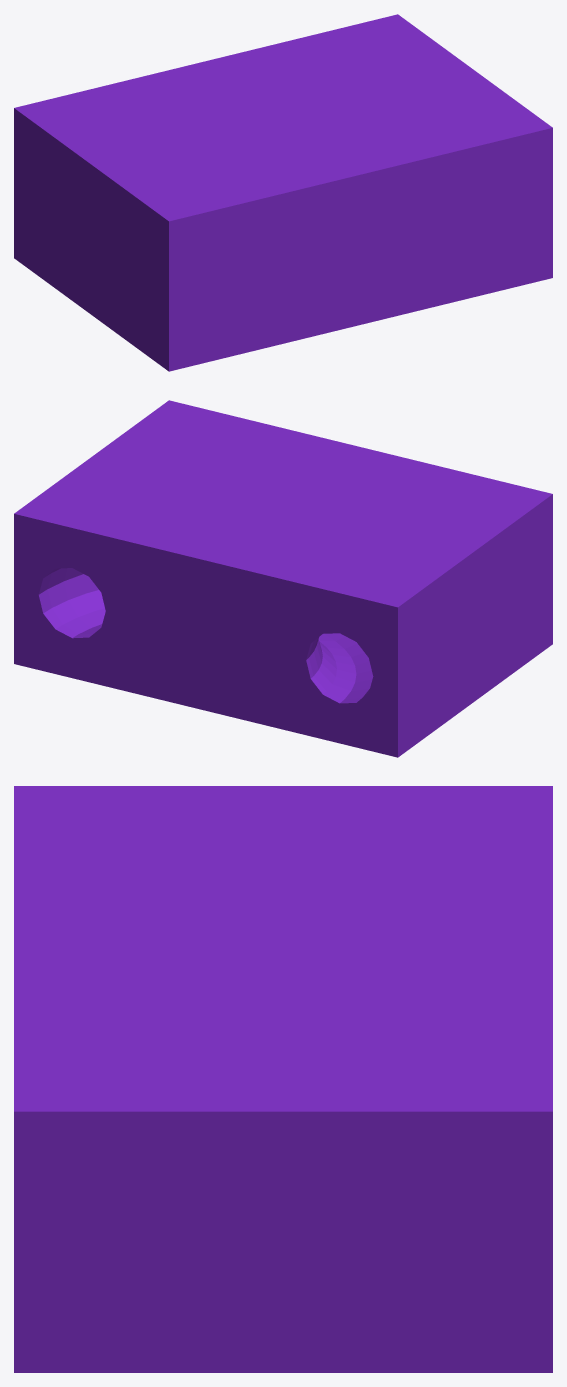
Rendered from tunel.fbx.
The picture shows the model from 3 angles, top to bottom: view 1: azimuth 30°, elevation 25°; view 2: azimuth 150°, elevation 25°; view 3: azimuth 270°, elevation 25°; orthographic projection. The views are drawn at different scales.
Visible parts, largest first — view 1: Cube; view 2: Cube; view 3: Cube.
Boxes of the visible parts, box(x1,y1,x2,y2) form: Cube: box(14, 14, 552, 371); Cube: box(14, 400, 552, 757); Cube: box(14, 786, 552, 1372).
Bounding box in the file's own units: 286 × 107 × 200.
